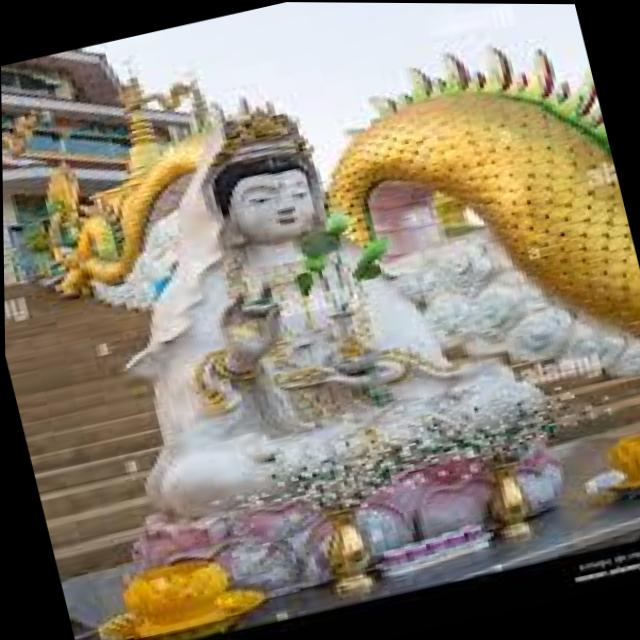Guan Yin: (78, 71, 482, 476)
